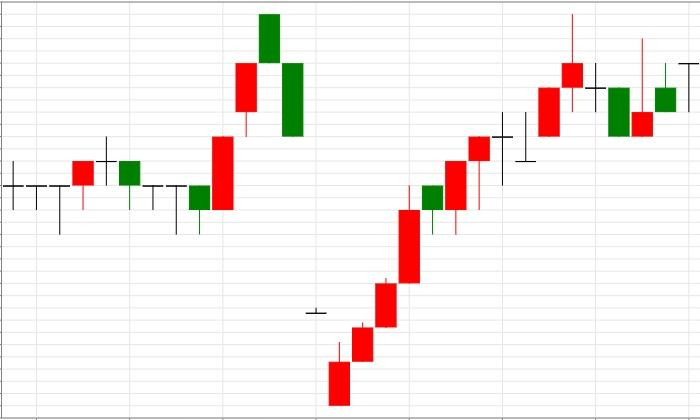three_white_soldiers_rise: (259, 14, 396, 406)
